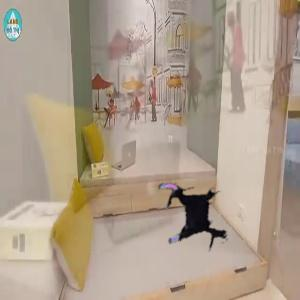drone: (145, 171, 238, 264)
